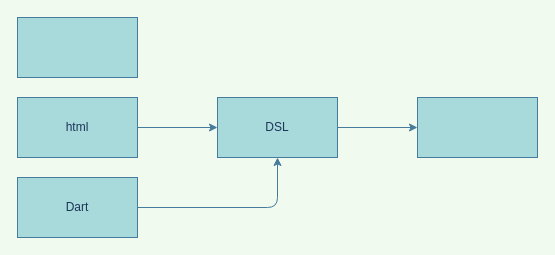
Some shapes in this 555 by 255 pixel diagram are drawn without their labels. The shapes that lost their labels are listed below. From the top down, each one's box as (x1, y1, x2, y2) in pixels, then its label:
(16, 16, 138, 78): 特定语法，约束逻辑复杂度，仅
(416, 96, 538, 158): DLS VM
